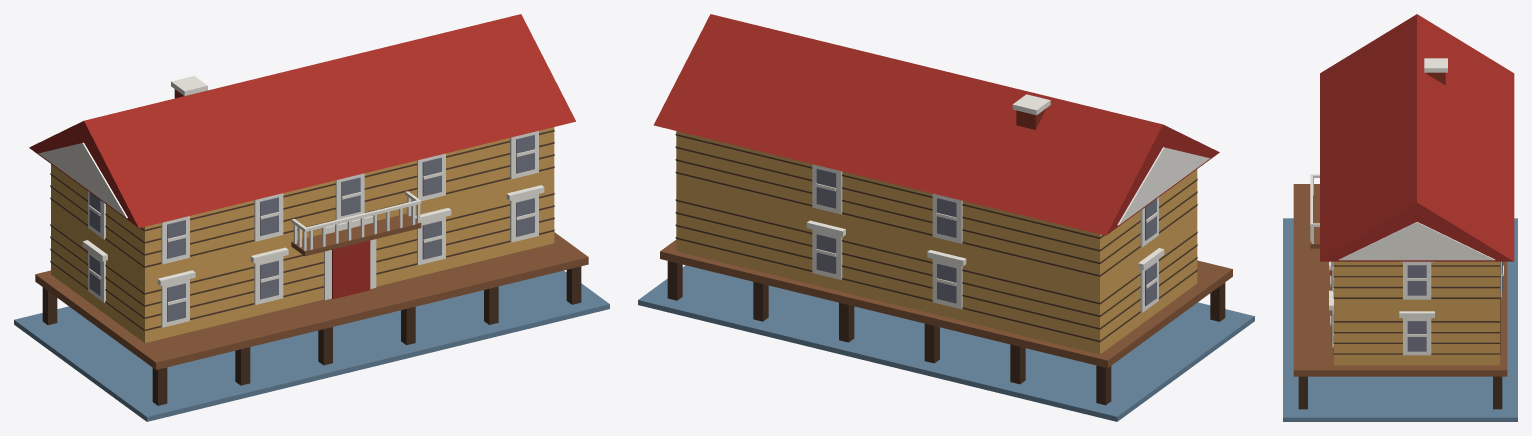
File: house-2x1-2f-palafito-a.glb
The picture shows the model from 3 angles, left to right: view 1: azimuth 30°, elevation 25°; view 2: azimuth 150°, elevation 25°; view 3: azimuth 270°, elevation 25°; orthographic projection. The views are drawn at different scales.
Visible parts, largest first — view 1: house-2x1-2f-palafito-a; view 2: house-2x1-2f-palafito-a; view 3: house-2x1-2f-palafito-a.
Boxes of the visible parts, x1,y1,x2,y2 form: house-2x1-2f-palafito-a: (14,14,609,421); house-2x1-2f-palafito-a: (638,14,1254,421); house-2x1-2f-palafito-a: (1283,14,1517,421).
Size of the model in its own units: 1.99 by 1 by 0.99.
Materials: 1 (1 with a texture image).
